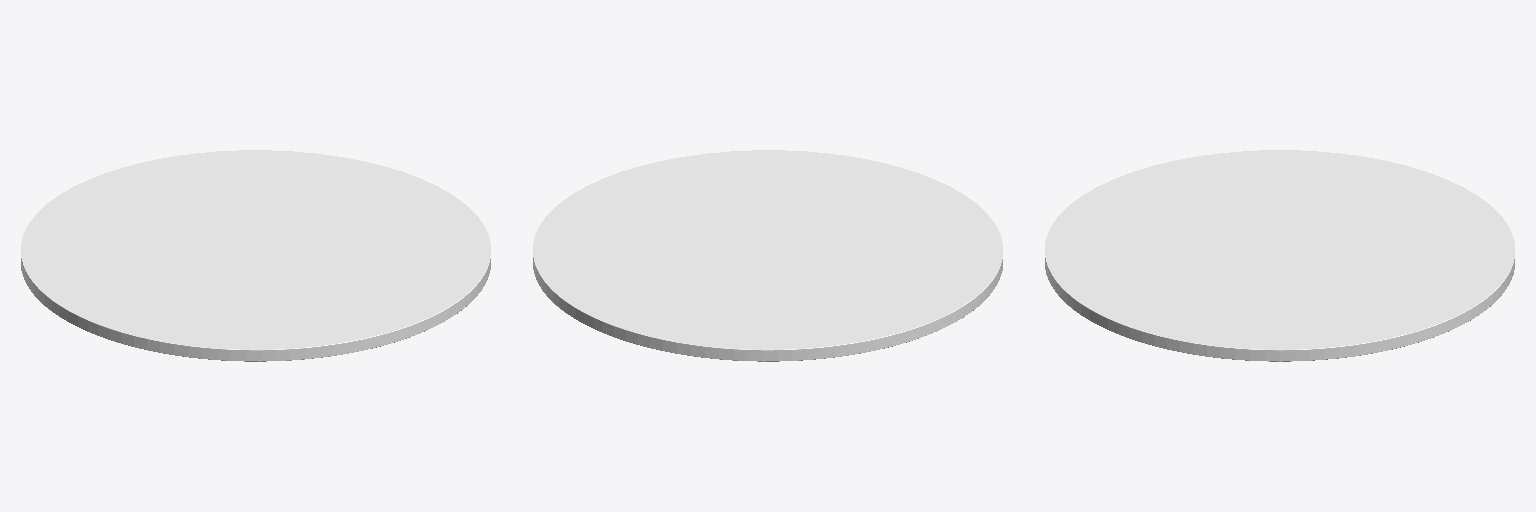
Rendered from Painting.obj.
3 renders of one model, left to right at view 1: azimuth 30°, elevation 25°; view 2: azimuth 150°, elevation 25°; view 3: azimuth 270°, elevation 25°, orthographic.
Visible parts, largest first — view 1: 000_Merged_Objects; view 2: 000_Merged_Objects; view 3: 000_Merged_Objects.
Part boxes in pixels (left/top/right/bottom): 000_Merged_Objects: left=21, top=150, right=490, bottom=361; 000_Merged_Objects: left=533, top=150, right=1002, bottom=361; 000_Merged_Objects: left=1045, top=150, right=1514, bottom=361.
Bounding box in the file's own units: 100 × 3 × 100.